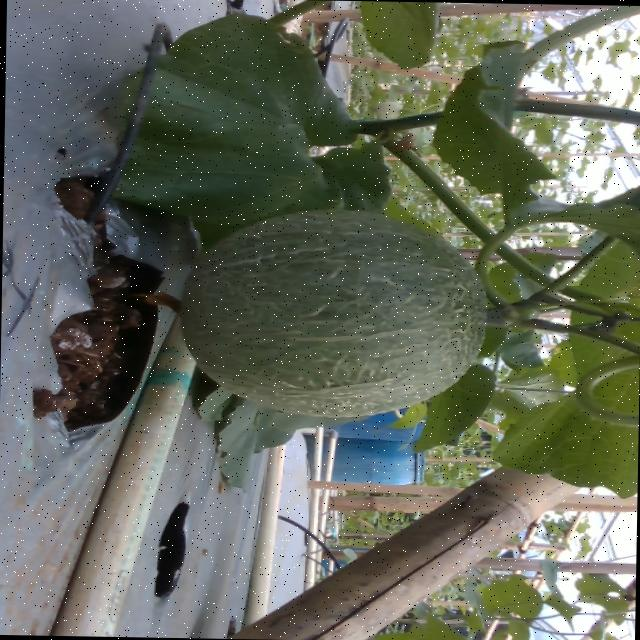melon: (179, 211, 485, 418)
